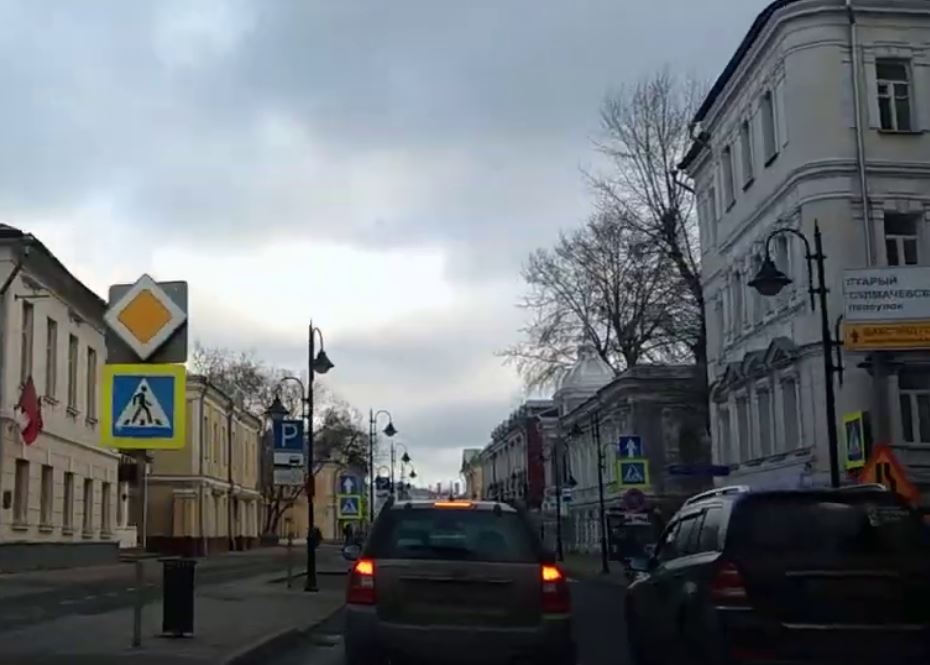Yaya Gecidi: (115, 373, 179, 436)
